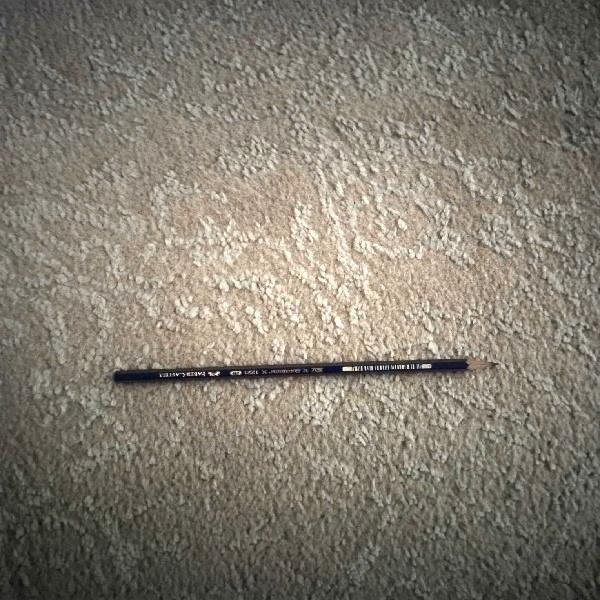pencil: (108, 350, 512, 392)
